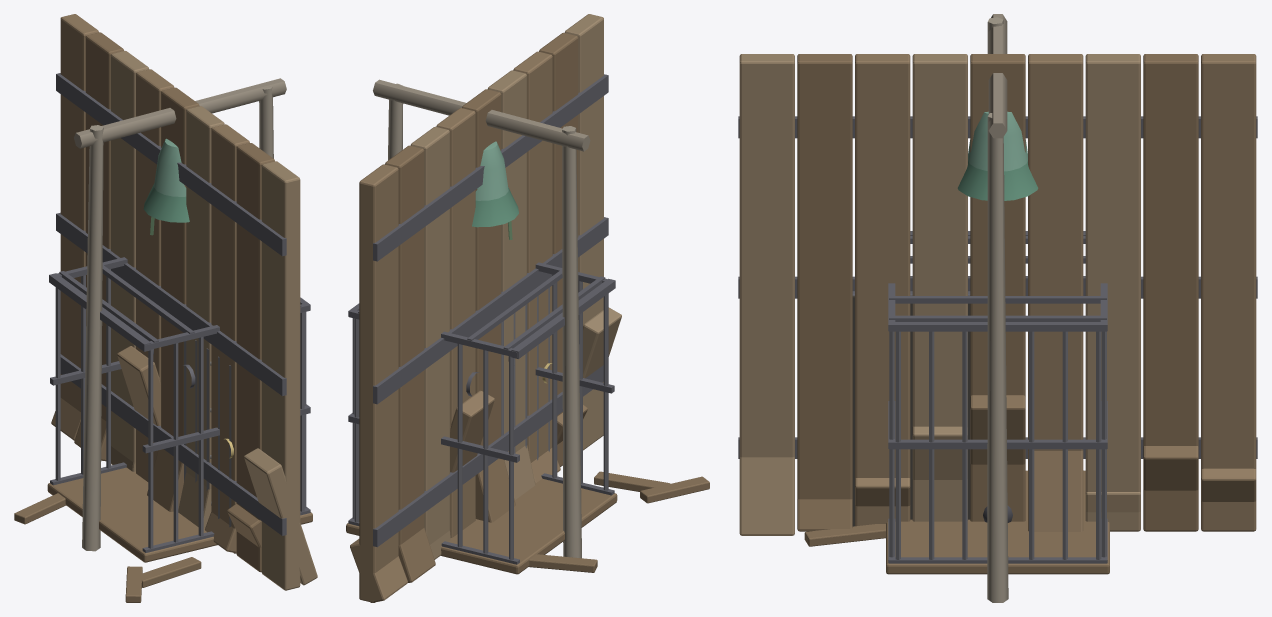
File: fort_parts.glb
3 renders of one model, left to right at view 1: azimuth 30°, elevation 25°; view 2: azimuth 150°, elevation 25°; view 3: azimuth 270°, elevation 25°, orthographic. The views are drawn at different scales.
Visible parts, largest first — view 1: gate, cage, bell_gallows, gate_broken, cell_door; view 2: gate, cage, bell_gallows, gate_broken, cell_door; view 3: gate, cage, gate_broken, bell_gallows, cell_door.
Part boxes in pixels (left/top/right/bottom): gate: left=56, top=14, right=300, bottom=590; cage: left=47, top=257, right=312, bottom=562; bell_gallows: left=74, top=78, right=286, bottom=551; gate_broken: left=14, top=346, right=317, bottom=602; cell_door: left=184, top=340, right=231, bottom=527; gate: left=359, top=14, right=608, bottom=602; cage: left=346, top=262, right=617, bottom=574; bell_gallows: left=373, top=79, right=590, bottom=558; gate_broken: left=350, top=307, right=709, bottom=602; cell_door: left=501, top=287, right=549, bottom=460; gate: left=738, top=54, right=1257, bottom=531; cage: left=886, top=231, right=1109, bottom=574; gate_broken: left=739, top=395, right=1256, bottom=546; bell_gallows: left=957, top=14, right=1038, bottom=602; cell_door: left=852, top=291, right=970, bottom=526.
Size of the model in its own units: 2.71 by 4.6 by 4.4.
